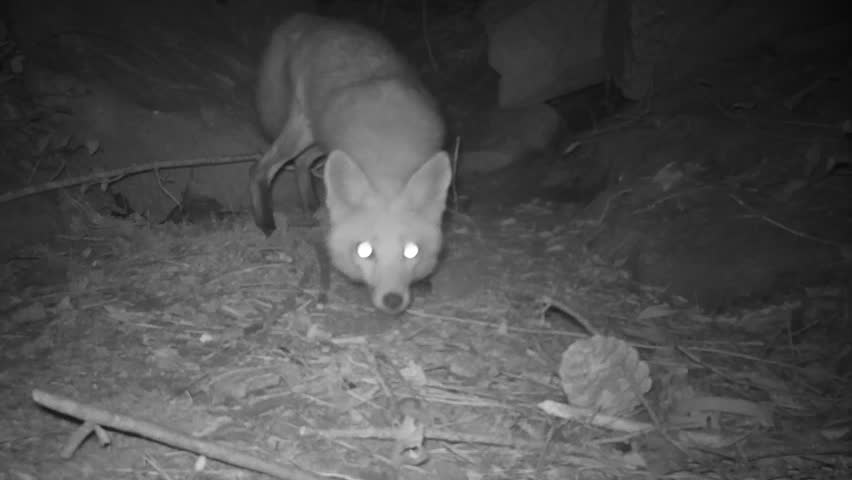fox: (257, 8, 470, 336)
